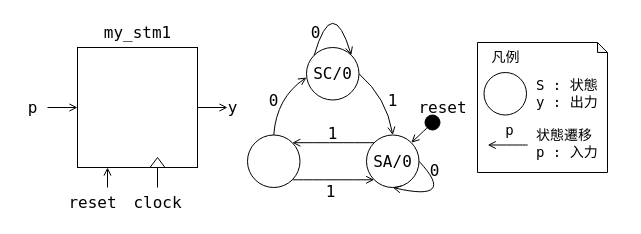
Image size: 641x234. Some labels were removed from this diagram. The centre of each missing label's shape, as x and y in pixels:
"S/ y" goes at pixel 504 93.
"SB/ 1" goes at pixel 273 161.
